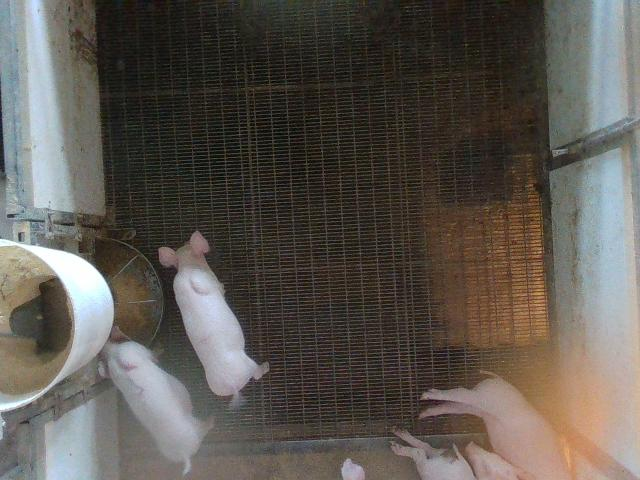pig-5: (99, 326, 212, 473)
